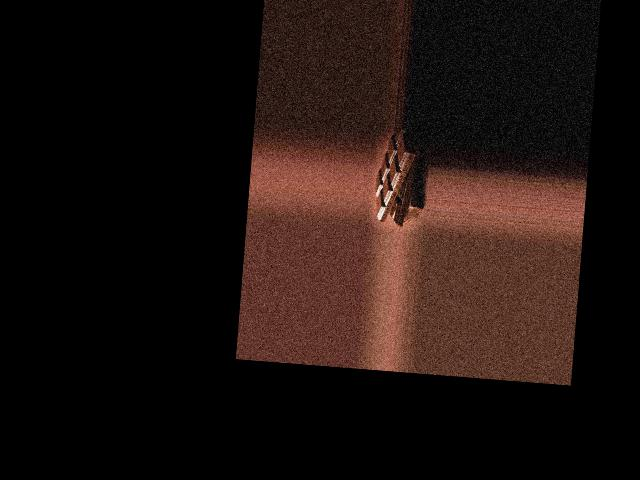chocolate: (373, 130, 423, 226)
